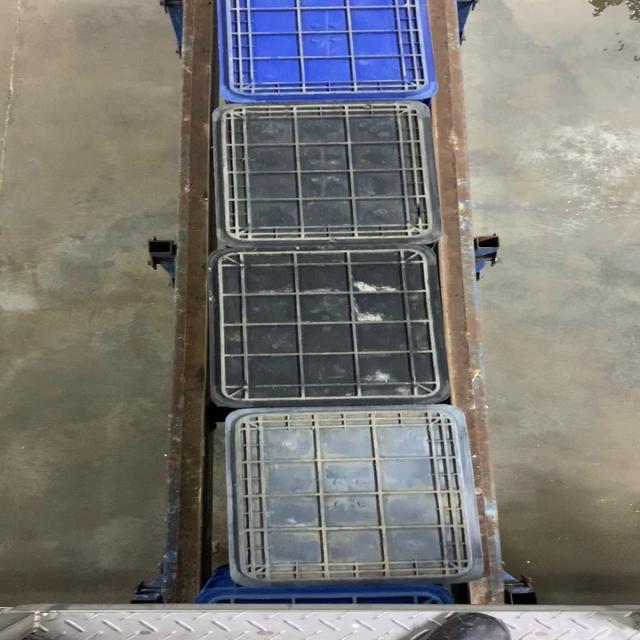Box: (216, 408, 483, 585), (207, 248, 450, 405), (213, 100, 443, 246)
